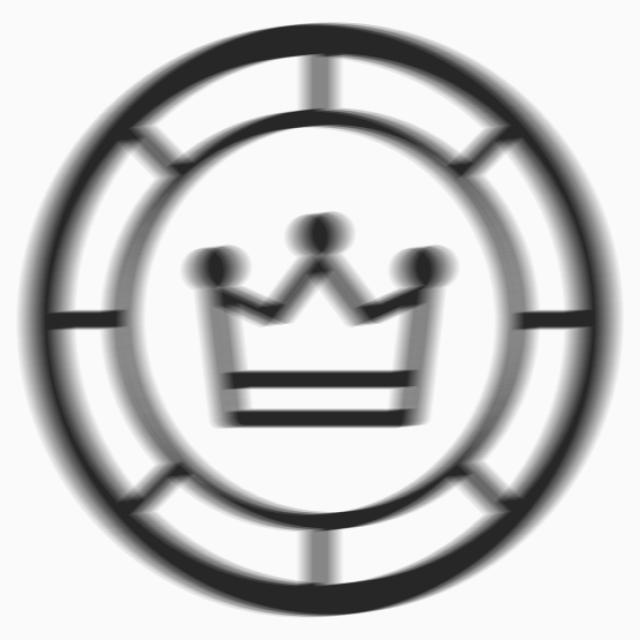coin: (12, 8, 631, 632)
